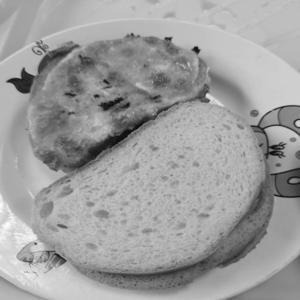bread: (26, 91, 269, 294)
cheese_sandwich: (15, 22, 219, 175)
